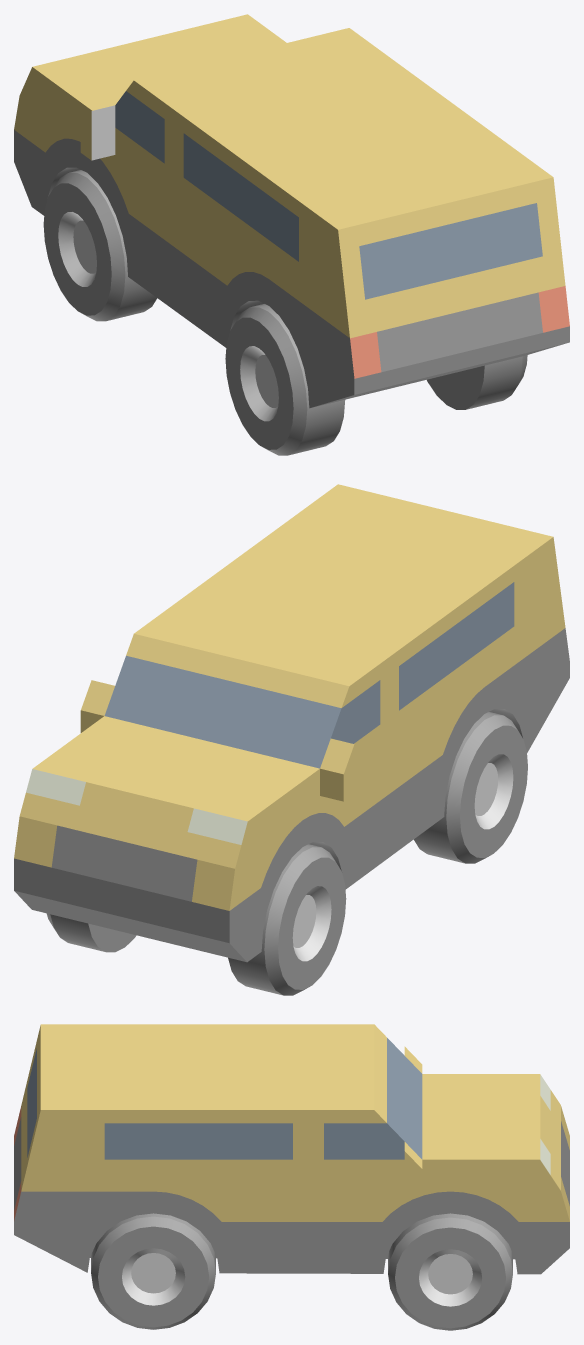
Rendered from carStation.gltf.
3 renders of one model, top to bottom at view 1: azimuth 30°, elevation 25°; view 2: azimuth 150°, elevation 25°; view 3: azimuth 270°, elevation 25°, orthographic. The views are drawn at different scales.
Visible parts, largest first — view 1: body 9, wheelBackLeft 9, wheelFrontLeft 9, wheelBackRight 9; view 2: body 9, wheelFrontLeft 9, wheelBackLeft 9, wheelFrontRight 9; view 3: body 9, wheelFrontRight 9, wheelBackRight 9.
Boxes of the visible parts, bbox=[...] form: body 9: bbox=[14, 14, 569, 408]; wheelBackLeft 9: bbox=[225, 304, 345, 455]; wheelFrontLeft 9: bbox=[43, 170, 157, 321]; wheelBackRight 9: bbox=[427, 355, 527, 409]; body 9: bbox=[14, 484, 569, 962]; wheelFrontLeft 9: bbox=[228, 844, 346, 995]; wheelBackLeft 9: bbox=[414, 712, 527, 863]; wheelFrontRight 9: bbox=[46, 913, 136, 952]; body 9: bbox=[14, 1024, 569, 1274]; wheelFrontRight 9: bbox=[388, 1213, 512, 1330]; wheelBackRight 9: bbox=[91, 1213, 215, 1329].
Bounding box in the file's own units: 0.555 × 0.5478 × 1.25.
